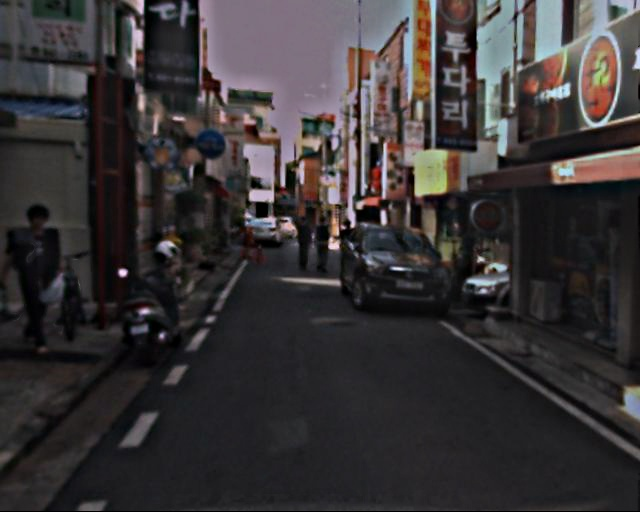person: (8, 205, 86, 353), (311, 216, 335, 275), (293, 217, 317, 272), (336, 217, 358, 270)
